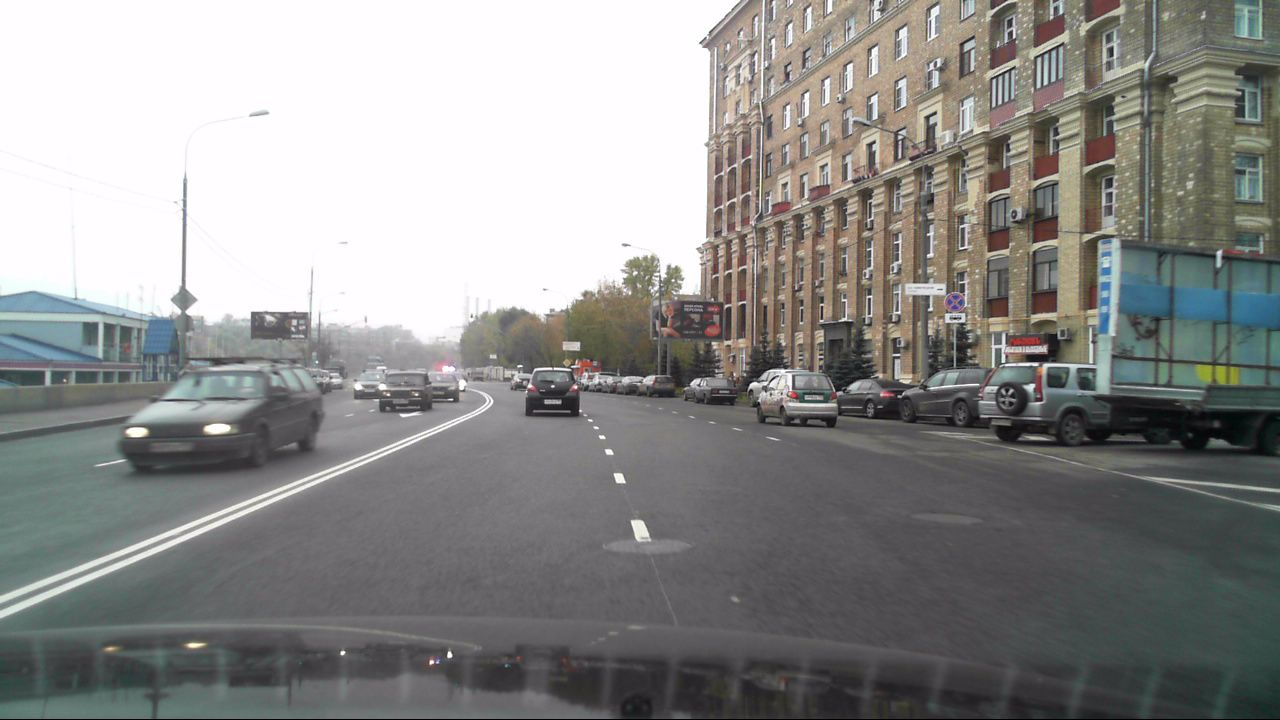No Parking: (943, 288, 966, 311)
